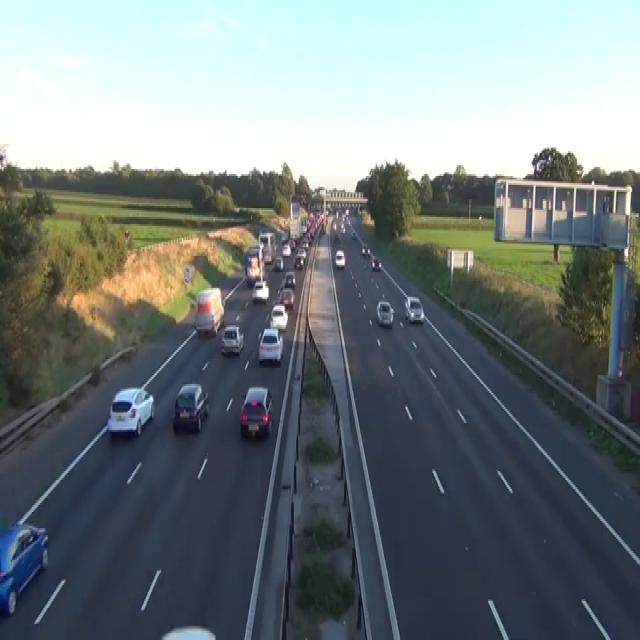Car: (0, 521, 48, 617), (107, 386, 155, 437), (172, 382, 209, 432), (239, 386, 273, 439), (194, 286, 224, 338), (258, 327, 283, 365), (160, 624, 216, 638), (220, 324, 244, 356), (404, 295, 424, 324), (269, 304, 288, 331), (376, 301, 394, 327), (277, 270, 295, 295), (251, 279, 269, 302), (280, 288, 294, 308), (335, 249, 345, 268), (284, 270, 295, 286), (277, 277, 286, 295), (371, 256, 381, 270), (293, 254, 303, 268), (296, 247, 306, 260), (274, 256, 283, 270), (263, 249, 272, 263), (361, 244, 370, 256), (282, 244, 291, 256), (280, 231, 288, 244), (333, 233, 340, 243), (289, 238, 295, 249), (301, 240, 308, 249), (331, 220, 337, 230), (446, 183, 454, 190), (339, 224, 345, 233), (350, 230, 356, 238), (309, 212, 314, 220), (362, 244, 366, 254), (345, 208, 349, 217), (326, 208, 329, 215)
Truck: (244, 244, 264, 286), (258, 231, 276, 265), (289, 201, 300, 240)
